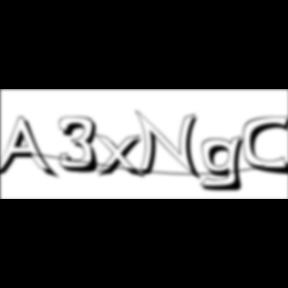3: (60, 116, 106, 176)
A: (0, 116, 60, 182)
N: (135, 109, 205, 183)
g: (200, 134, 252, 194)
x: (94, 132, 148, 181)
